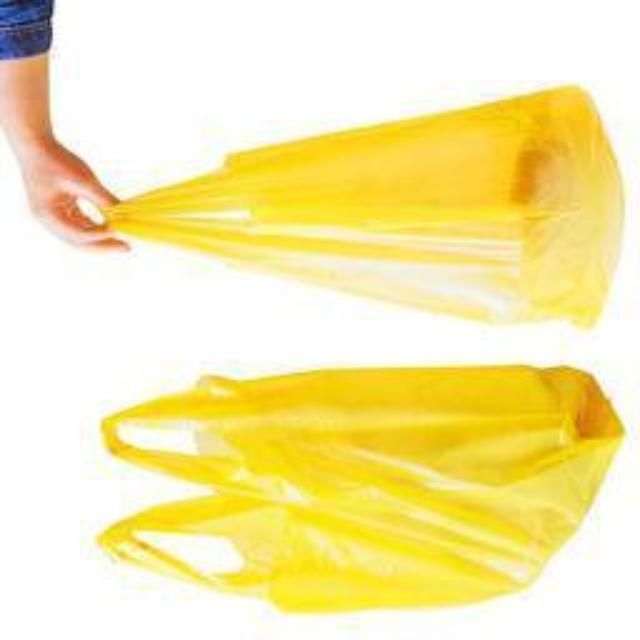Bolsa-de-nilon: (80, 365, 635, 632), (103, 78, 633, 337)
